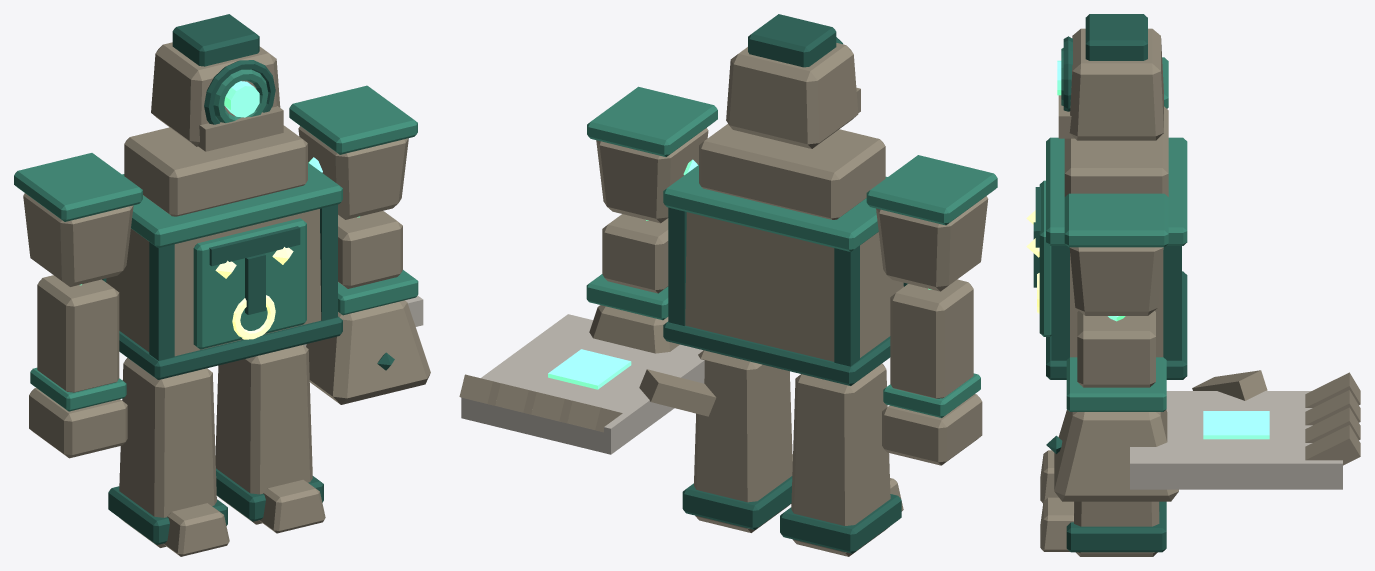
The model's file is construct_golem.glb.
3 renders of one model, left to right at view 1: azimuth 30°, elevation 25°; view 2: azimuth 150°, elevation 25°; view 3: azimuth 270°, elevation 25°, orthographic.
Parts seen in each view (by area): view 1: Torso, LegL, LegR, ArmR, ArmL, Head, ShoulderL, ShoulderR; view 2: Torso, LegL, LegR, ArmL, Head, palm, ShoulderL, ShoulderR, ArmR, palmThumb, palmSeam, palmFinger0 (+3 smaller); view 3: Torso, ArmR, palm, Head, ShoulderR, LegR, palmSeam, palmFinger3, palmThumb, palmFinger1, palmFinger2, palmFinger0 (+1 smaller).
Part boxes in pixels (x1=…): Torso: x1=102, y1=125, x2=342, y2=379; LegL: x1=108, y1=358, x2=229, y2=556; LegR: x1=215, y1=345, x2=325, y2=533; ArmR: x1=306, y1=211, x2=430, y2=404; ArmL: x1=29, y1=275, x2=127, y2=458; Head: x1=151, y1=14, x2=283, y2=151; ShoulderL: x1=14, y1=153, x2=142, y2=286; ShoulderR: x1=289, y1=85, x2=417, y2=219; Torso: x1=663, y1=124, x2=907, y2=385; LegL: x1=780, y1=363, x2=903, y2=556; LegR: x1=682, y1=350, x2=792, y2=532; ArmL: x1=882, y1=279, x2=982, y2=465; Head: x1=726, y1=14, x2=860, y2=148; palm: x1=461, y1=314, x2=704, y2=454; ShoulderL: x1=866, y1=155, x2=997, y2=291; ShoulderR: x1=587, y1=86, x2=717, y2=223; ArmR: x1=586, y1=214, x2=679, y2=353; palmThumb: x1=639, y1=369, x2=716, y2=416; palmSeam: x1=548, y1=349, x2=631, y2=389; palmFinger0: x1=567, y1=401, x2=622, y2=432; Torso: x1=1026, y1=106, x2=1187, y2=379; ArmR: x1=1046, y1=311, x2=1178, y2=501; palm: x1=1130, y1=391, x2=1342, y2=489; Head: x1=1057, y1=14, x2=1163, y2=140; ShoulderR: x1=1064, y1=193, x2=1168, y2=315; LegR: x1=1040, y1=497, x2=1166, y2=556; palmSeam: x1=1203, y1=411, x2=1269, y2=439; palmFinger3: x1=1305, y1=425, x2=1360, y2=465; palmThumb: x1=1192, y1=370, x2=1267, y2=400; palmFinger1: x1=1305, y1=390, x2=1360, y2=425; palmFinger2: x1=1305, y1=407, x2=1360, y2=442; palmFinger0: x1=1305, y1=372, x2=1360, y2=407.
Size of the model in its own units: 2.21 by 2.62 by 1.61.
